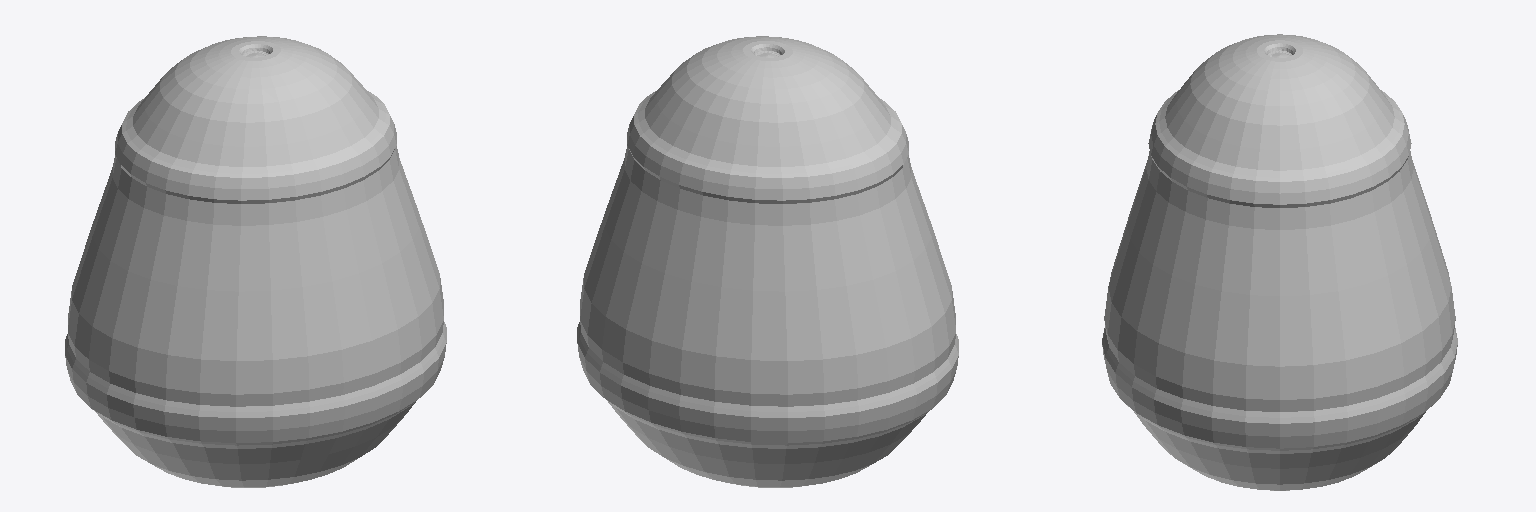
Rendered from buoyBottom.obj.
3 renders of one model, left to right at view 1: azimuth 30°, elevation 25°; view 2: azimuth 150°, elevation 25°; view 3: azimuth 270°, elevation 25°, orthographic.
Visible parts, largest first — view 1: FloatingTag_Buoy_FloatingTag_BuoyMesh; view 2: FloatingTag_Buoy_FloatingTag_BuoyMesh; view 3: FloatingTag_Buoy_FloatingTag_BuoyMesh.
Part boxes in pixels (x1,y1,x2,y2): FloatingTag_Buoy_FloatingTag_BuoyMesh: (65, 36, 446, 487); FloatingTag_Buoy_FloatingTag_BuoyMesh: (577, 36, 958, 487); FloatingTag_Buoy_FloatingTag_BuoyMesh: (1102, 34, 1457, 490).
Bounding box in the file's own units: 1.43 × 1.65 × 1.3.